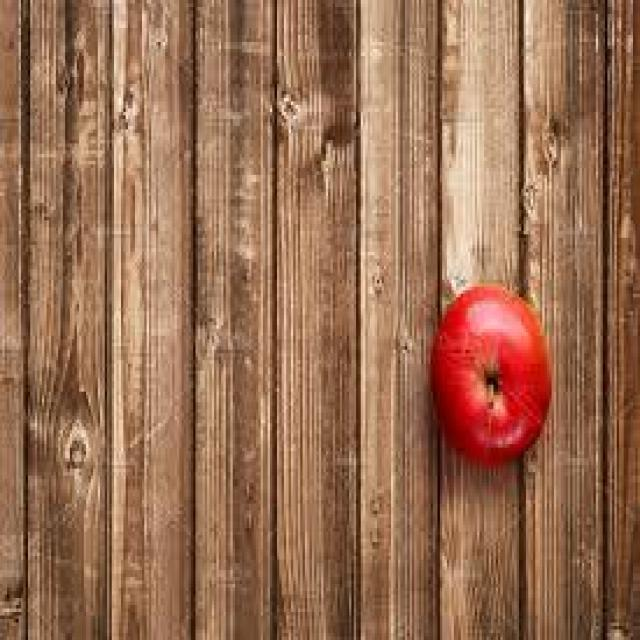maca: (428, 280, 552, 465)
